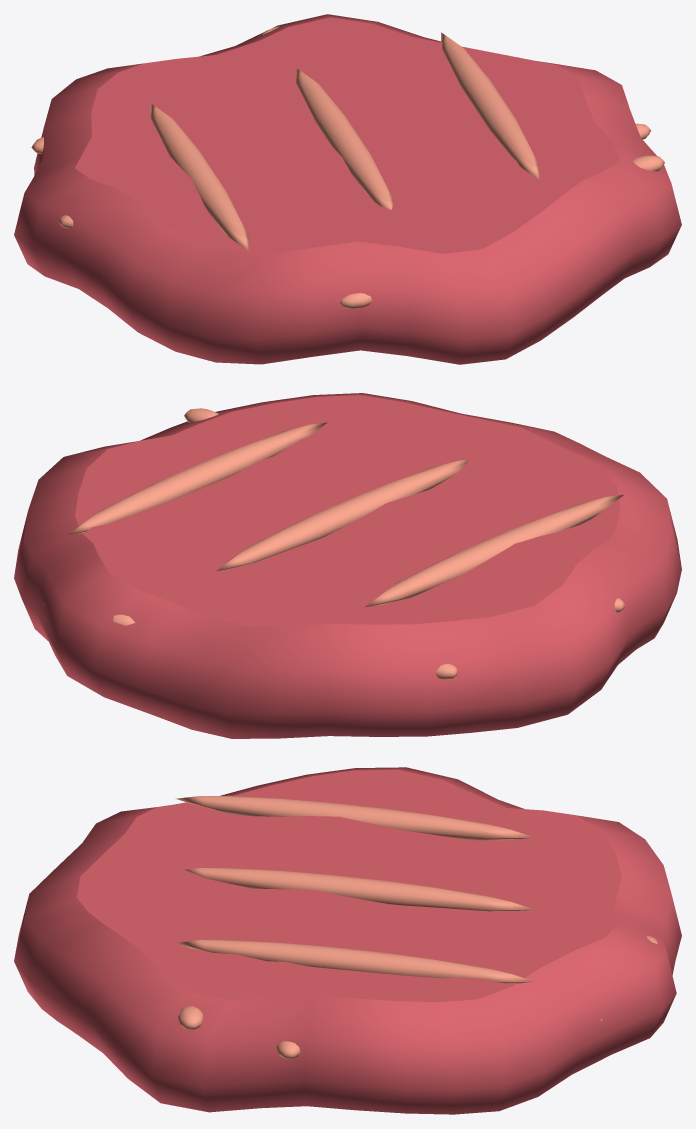
The model's file is raw.glb.
3 renders of one model, top to bottom at view 1: azimuth 30°, elevation 25°; view 2: azimuth 150°, elevation 25°; view 3: azimuth 270°, elevation 25°, orthographic. The views are drawn at different scales.
Visible parts, largest first — view 1: Hand pressed patty, Pressed grill line.002, Pressed grill line.001, Pressed grill line; view 2: Hand pressed patty, Pressed grill line.001, Pressed grill line.002, Pressed grill line; view 3: Hand pressed patty, Pressed grill line.001, Pressed grill line.002, Pressed grill line.
Boxes of the visible parts, bbox=[...] form: Hand pressed patty: bbox=[14, 14, 681, 364]; Pressed grill line.002: bbox=[441, 32, 539, 179]; Pressed grill line.001: bbox=[295, 68, 393, 209]; Pressed grill line: bbox=[150, 103, 248, 250]; Hand pressed patty: bbox=[14, 393, 681, 738]; Pressed grill line.001: bbox=[217, 459, 469, 570]; Pressed grill line.002: bbox=[68, 422, 327, 534]; Pressed grill line: bbox=[365, 494, 623, 606]; Hand pressed patty: bbox=[14, 767, 681, 1114]; Pressed grill line.001: bbox=[185, 868, 533, 911]; Pressed grill line.002: bbox=[176, 940, 533, 983]; Pressed grill line: bbox=[175, 795, 533, 840].
Size of the model in its own units: 0.4533 by 0.0925 by 0.4504.
